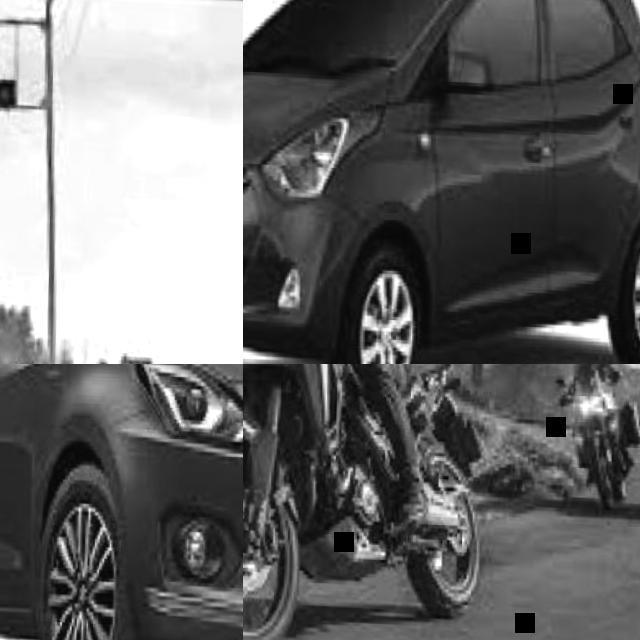car: (248, 0, 639, 362), (4, 367, 244, 640)
